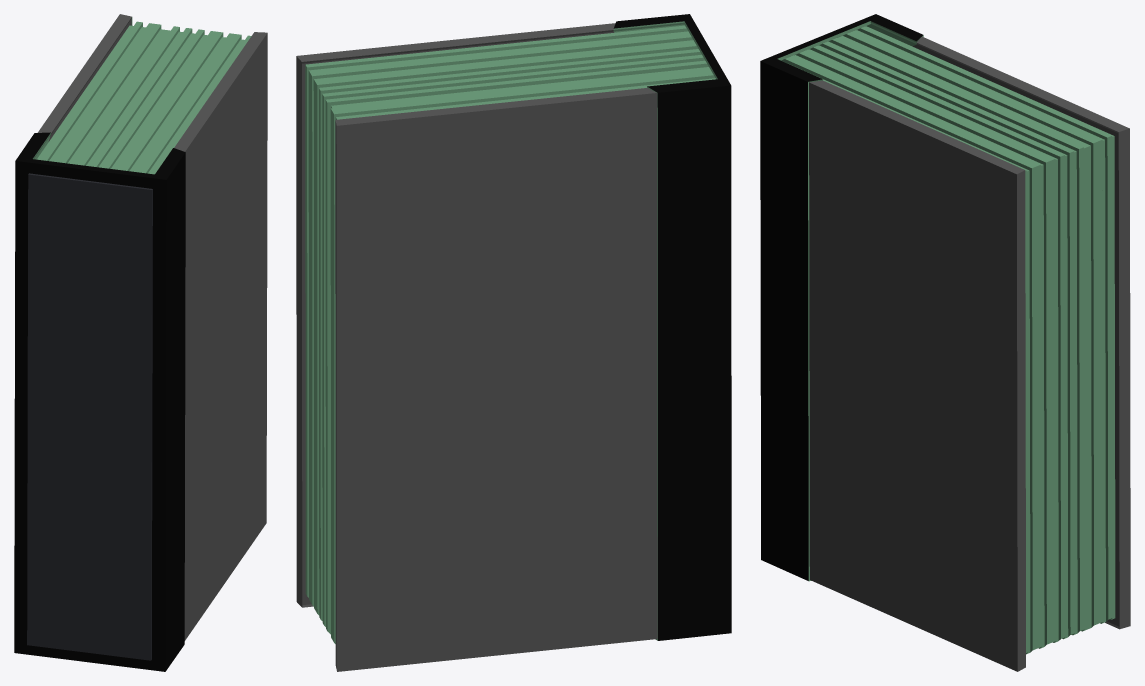
Rendered from SecondShelfBook12.fbx.
3 views of the same model, side by side, from view 1: azimuth 30°, elevation 25°; view 2: azimuth 150°, elevation 25°; view 3: azimuth 270°, elevation 25° (orthographic). The views are drawn at different scales.
Parts seen in each view (by area): view 1: BigBook.006; view 2: BigBook.006; view 3: BigBook.006.
Boxes of the visible parts, x1,y1,x2,y2 form: BigBook.006: (14,14,267,671); BigBook.006: (296,14,731,671); BigBook.006: (760,14,1130,671).
Size of the model in its own units: 130 by 189 by 127.
